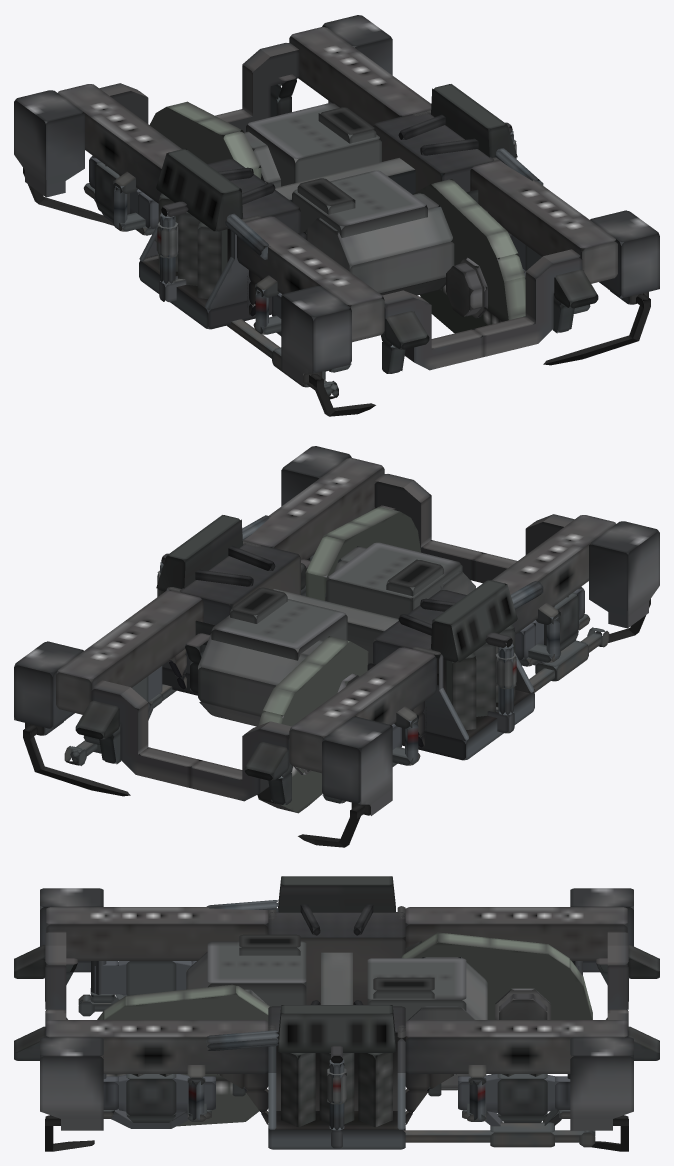
The model's file is frame.obj.
3 renders of one model, top to bottom at view 1: azimuth 30°, elevation 25°; view 2: azimuth 150°, elevation 25°; view 3: azimuth 270°, elevation 25°, orthographic.
Visible parts, largest first — view 1: e421f447-62e0-cf06-ecef-8819b9430613, ec12e144-79b8-edbb-ad36-913dc47f1338, a0c8b043-7d07-7ae8-5aa7-15d7bac2a61f, 1c3dab7f-2e31-1544-163f-6e8e5e03b9bc, eb0592a0-ff26-2838-df06-33b1698ea6cc, b2b01ce7-5262-780f-39bd-d9ebb481d1a2, dbdd8b3d-b179-6f26-ad61-9840c5744927, f32ad3c2-600e-6195-56f2-04856f0ac6b2, fa106224-dfaf-c321-fed7-f0a060493f9a, b3770c93-1439-64c4-3e21-768388619ef7, 491c40de-4dc7-7cd4-10d4-57b0bcd29242, 6e4693d9-8724-36d3-399c-5eff232858e1 (+31 smaller); view 2: 1c3dab7f-2e31-1544-163f-6e8e5e03b9bc, f32ad3c2-600e-6195-56f2-04856f0ac6b2, e421f447-62e0-cf06-ecef-8819b9430613, a6ba2245-a635-773a-4330-33868b0c34f2, fa106224-dfaf-c321-fed7-f0a060493f9a, b497b466-9167-eba0-42ae-5c72d35d5b0e, b2b01ce7-5262-780f-39bd-d9ebb481d1a2, eb0592a0-ff26-2838-df06-33b1698ea6cc, b3770c93-1439-64c4-3e21-768388619ef7, dbdd8b3d-b179-6f26-ad61-9840c5744927, b5262c86-3865-c6b8-1286-74ac0b748cfe, 403e21c5-f1ba-ef8d-867c-e4049f8f8b4a (+29 smaller); view 3: eb0592a0-ff26-2838-df06-33b1698ea6cc, 1c3dab7f-2e31-1544-163f-6e8e5e03b9bc, e421f447-62e0-cf06-ecef-8819b9430613, f32ad3c2-600e-6195-56f2-04856f0ac6b2, a6ba2245-a635-773a-4330-33868b0c34f2, 6e0e2ceb-f1f1-ea42-7b8c-1f3cfe68a698, a0c8b043-7d07-7ae8-5aa7-15d7bac2a61f, 339fd853-ea91-5ec4-5e5d-57a72af443c4, 45781678-9a33-107a-537d-6c3c388748f1, 60f765db-b230-2d7b-1994-2d555b71a562, b3770c93-1439-64c4-3e21-768388619ef7, b5262c86-3865-c6b8-1286-74ac0b748cfe (+44 smaller).
Boxes of the visible parts, bbox=[...] form: e421f447-62e0-cf06-ecef-8819b9430613: bbox=[470, 160, 617, 283]; ec12e144-79b8-edbb-ad36-913dc47f1338: bbox=[305, 193, 454, 295]; a0c8b043-7d07-7ae8-5aa7-15d7bac2a61f: bbox=[412, 179, 525, 333]; 1c3dab7f-2e31-1544-163f-6e8e5e03b9bc: bbox=[289, 27, 431, 126]; eb0592a0-ff26-2838-df06-33b1698ea6cc: bbox=[237, 216, 384, 342]; b2b01ce7-5262-780f-39bd-d9ebb481d1a2: bbox=[14, 90, 84, 197]; dbdd8b3d-b179-6f26-ad61-9840c5744927: bbox=[246, 103, 381, 186]; f32ad3c2-600e-6195-56f2-04856f0ac6b2: bbox=[58, 84, 181, 203]; fa106224-dfaf-c321-fed7-f0a060493f9a: bbox=[281, 285, 351, 384]; b3770c93-1439-64c4-3e21-768388619ef7: bbox=[292, 170, 427, 269]; 491c40de-4dc7-7cd4-10d4-57b0bcd29242: bbox=[373, 111, 493, 192]; 6e4693d9-8724-36d3-399c-5eff232858e1: bbox=[473, 249, 582, 356]; 1c3dab7f-2e31-1544-163f-6e8e5e03b9bc: bbox=[56, 590, 203, 714]; f32ad3c2-600e-6195-56f2-04856f0ac6b2: bbox=[289, 647, 436, 773]; e421f447-62e0-cf06-ecef-8819b9430613: bbox=[243, 458, 384, 559]; a6ba2245-a635-773a-4330-33868b0c34f2: bbox=[257, 636, 368, 813]; fa106224-dfaf-c321-fed7-f0a060493f9a: bbox=[589, 521, 659, 628]; b497b466-9167-eba0-42ae-5c72d35d5b0e: bbox=[198, 633, 323, 726]; b2b01ce7-5262-780f-39bd-d9ebb481d1a2: bbox=[322, 716, 392, 815]; eb0592a0-ff26-2838-df06-33b1698ea6cc: bbox=[492, 515, 615, 634]; b3770c93-1439-64c4-3e21-768388619ef7: bbox=[326, 542, 462, 618]; dbdd8b3d-b179-6f26-ad61-9840c5744927: bbox=[211, 599, 347, 660]; b5262c86-3865-c6b8-1286-74ac0b748cfe: bbox=[431, 580, 517, 662]; 403e21c5-f1ba-ef8d-867c-e4049f8f8b4a: bbox=[91, 680, 200, 787]; eb0592a0-ff26-2838-df06-33b1698ea6cc: bbox=[46, 907, 268, 960]; 1c3dab7f-2e31-1544-163f-6e8e5e03b9bc: bbox=[405, 1020, 627, 1073]; e421f447-62e0-cf06-ecef-8819b9430613: bbox=[46, 1020, 268, 1073]; f32ad3c2-600e-6195-56f2-04856f0ac6b2: bbox=[405, 907, 627, 960]; a6ba2245-a635-773a-4330-33868b0c34f2: bbox=[401, 932, 592, 1074]; 6e0e2ceb-f1f1-ea42-7b8c-1f3cfe68a698: bbox=[268, 912, 405, 1004]; a0c8b043-7d07-7ae8-5aa7-15d7bac2a61f: bbox=[97, 984, 270, 1126]; 339fd853-ea91-5ec4-5e5d-57a72af443c4: bbox=[570, 1037, 633, 1130]; 45781678-9a33-107a-537d-6c3c388748f1: bbox=[40, 1037, 103, 1130]; 60f765db-b230-2d7b-1994-2d555b71a562: bbox=[278, 1005, 395, 1052]; b3770c93-1439-64c4-3e21-768388619ef7: bbox=[207, 941, 306, 1006]; b5262c86-3865-c6b8-1286-74ac0b748cfe: bbox=[278, 876, 395, 912].
Bounding box in the file's own units: 3.15 × 1.34 × 5.
